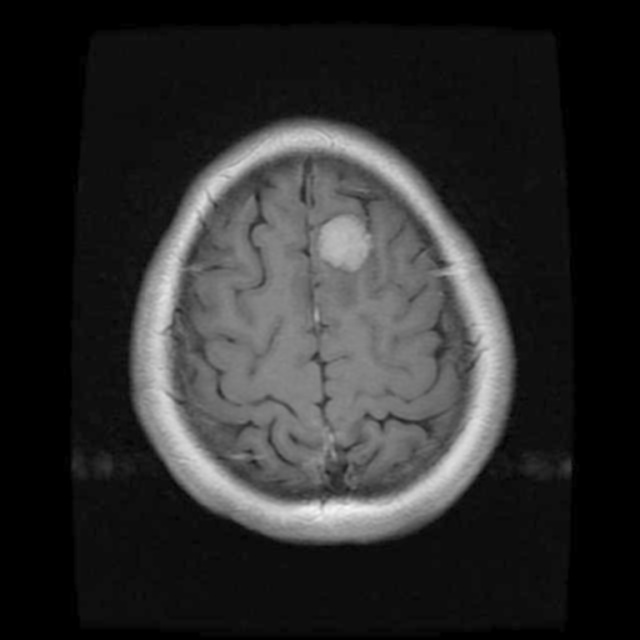meningioma tumor: (315, 209, 376, 275)
